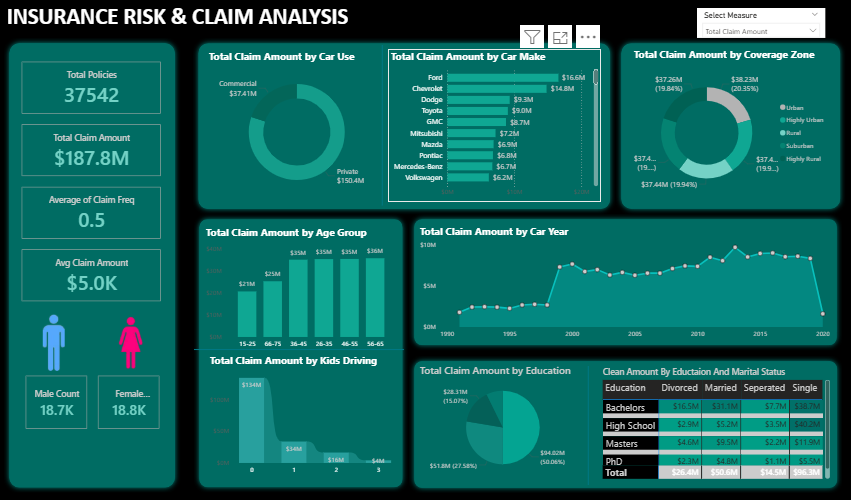

The page's visual inventory and layout, read from the dashboard file:
{"tool":"powerbi","page":{"name":"Insurance Risk","canvas":[1600,950],"ordinal":0},"visuals":[{"type":"textbox","box":[10.5,0,663.5,111.3],"z":0},{"type":"shape","box":[10.5,73.5,329.7,850.4],"z":1000},{"type":"cardVisual","fields":{"Data":["insurance_data_car.Total Policies","insurance_data_car.Total Claim Amount","Avg(insurance_data_car.Claim Freq)","insurance_data_car.Avg Claim Amount"]},"box":[39.9,111.3,270.9,459.8],"z":2000},{"type":"cardVisual","fields":{"Data":["insurance_data_car.Male Count","insurance_data_car.Female Count"]},"box":[46.2,699.2,260.4,109.2],"z":3000},{"type":"image","box":[45.8,585.4,114.6,114.6],"z":4000},{"type":"image","box":[191.7,585.4,114.6,114.6],"z":5000},{"type":"slicer","fields":{"Values":["Select Measure.Select Measure"]},"box":[1306.2,16.7,239.6,56.2],"z":6000},{"type":"shape","box":[364.6,72.9,790,330],"z":7000},{"type":"donutChart","fields":{"Y":["insurance_data_car.Total Claim Amount"],"Category":["insurance_data_car.Car Use"]},"box":[389.6,93.8,339.6,285.4],"z":8000},{"type":"clusteredBarChart","fields":{"Y":["insurance_data_car.Total Claim Amount"],"Category":["insurance_data_car.Car Make"]},"box":[729.2,93.8,397.9,285.4],"z":9000},{"type":"shape","box":[1156.2,72.9,429.2,329.2],"z":10000},{"type":"donutChart","fields":{"Y":["insurance_data_car.Total Claim Amount"],"Category":["insurance_data_car.Coverage Zone"]},"box":[1183.3,89.6,375,295.8],"z":11000},{"type":"shape","box":[366.7,402.1,400,520.8],"z":12000},{"type":"clusteredColumnChart","fields":{"Y":["insurance_data_car.Total Claim Amount"],"Category":["insurance_data_car.Age Group"]},"box":[383.4,422.6,364.7,239.4],"z":13000},{"type":"ribbonChart","fields":{"Y":["insurance_data_car.Total Claim Amount"],"Category":["insurance_data_car.Kids Driving"]},"box":[390.8,662,357.2,235.6],"z":14000},{"type":"shape","box":[768.6,402.1,810,255],"z":15000},{"type":"areaChart","fields":{"Y":["insurance_data_car.Total Claim Amount"],"Category":["insurance_data_car.Car Year"]},"box":[783.2,419.9,776.9,222.6],"z":16000},{"type":"shape","box":[768.5,667.7,810.5,256.2],"z":17000},{"type":"pieChart","fields":{"Y":["insurance_data_car.Total Claim Amount"],"Category":["insurance_data_car.Education"]},"box":[783.2,680.3,321.3,216.3],"z":18000},{"type":"pivotTable","title":"Clean Amount By Eductaion And Marital Status","fields":{"Rows":["insurance_data_car.Education"],"Columns":["insurance_data_car.Marital Status"],"Values":["insurance_data_car.Total Claim Amount"]},"box":[1125.5,686.6,434.6,216.3],"z":19000},{"type":"shape","box":[569,86.1,300.3,300.3],"z":20000},{"type":"shape","box":[953.3,686.6,300.3,222.6],"z":21000},{"type":"shape","box":[367.5,543.8,392.7,222.6],"z":22000}]}

Visuals, with their boxes in screenshot pixels (x1, y1, x2, y2), scaled from the page's 1600x950 canvas onto the 851x500 screenshot:
textbox: <region>6, 0, 358, 59</region>
shape: <region>6, 39, 181, 486</region>
cardVisual - insurance_data_car.Total Policies x insurance_data_car.Total Claim Amount: <region>21, 59, 165, 301</region>
cardVisual - insurance_data_car.Male Count x insurance_data_car.Female Count: <region>25, 368, 163, 425</region>
image: <region>24, 308, 85, 368</region>
image: <region>102, 308, 163, 368</region>
slicer - Select Measure.Select Measure: <region>695, 9, 822, 38</region>
shape: <region>194, 38, 614, 212</region>
donutChart - insurance_data_car.Total Claim Amount x insurance_data_car.Car Use: <region>207, 49, 388, 200</region>
clusteredBarChart - insurance_data_car.Total Claim Amount x insurance_data_car.Car Make: <region>388, 49, 599, 200</region>
shape: <region>615, 38, 843, 212</region>
donutChart - insurance_data_car.Total Claim Amount x insurance_data_car.Coverage Zone: <region>629, 47, 829, 203</region>
shape: <region>195, 212, 408, 486</region>
clusteredColumnChart - insurance_data_car.Total Claim Amount x insurance_data_car.Age Group: <region>204, 222, 398, 348</region>
ribbonChart - insurance_data_car.Total Claim Amount x insurance_data_car.Kids Driving: <region>208, 348, 398, 472</region>
shape: <region>409, 212, 840, 346</region>
areaChart - insurance_data_car.Total Claim Amount x insurance_data_car.Car Year: <region>417, 221, 830, 338</region>
shape: <region>409, 351, 840, 486</region>
pieChart - insurance_data_car.Total Claim Amount x insurance_data_car.Education: <region>417, 358, 587, 472</region>
"Clean Amount By Eductaion And Marital Status" pivotTable: <region>599, 361, 830, 475</region>
shape: <region>303, 45, 462, 203</region>
shape: <region>507, 361, 667, 479</region>
shape: <region>195, 286, 404, 403</region>
